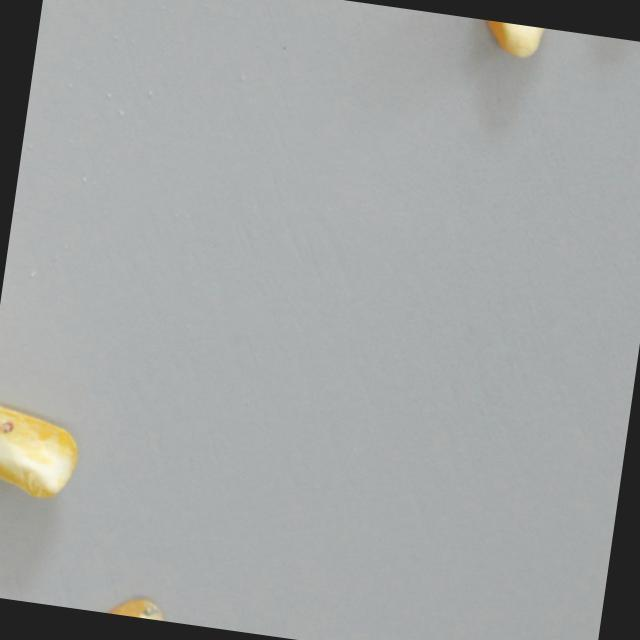dañado: (0, 398, 83, 505)
punto_negro: (74, 576, 180, 623), (471, 19, 558, 64)
